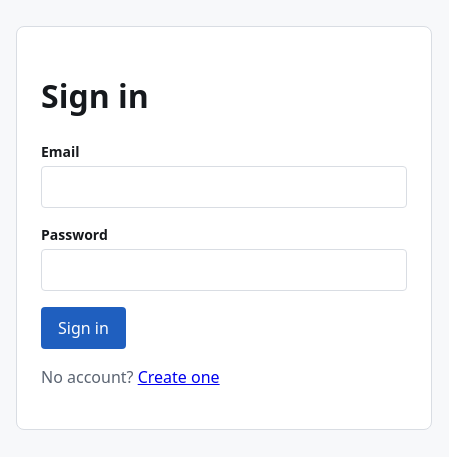
LoginPage › reports a rejected sign-in without hinting whether the account exists
This screenshot has width=449, height=457.
Step 1. Type "person@example.com" into the field labelled "Email" → (224, 187), box [41, 166, 407, 208]
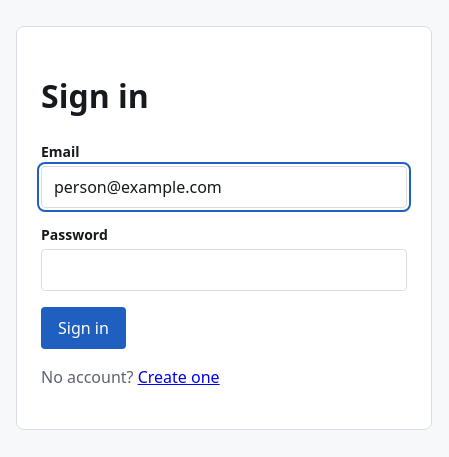
Step 2. Type "Str0ngPassword!" into the password field labelled "Password" → (224, 270), box [41, 249, 407, 291]
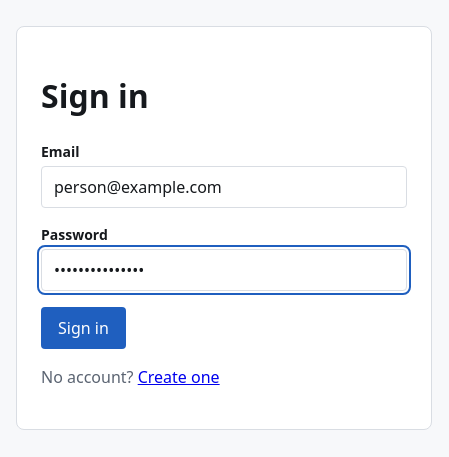
Step 3. Click the button "Sign in" → (83, 328), box [41, 307, 126, 349]
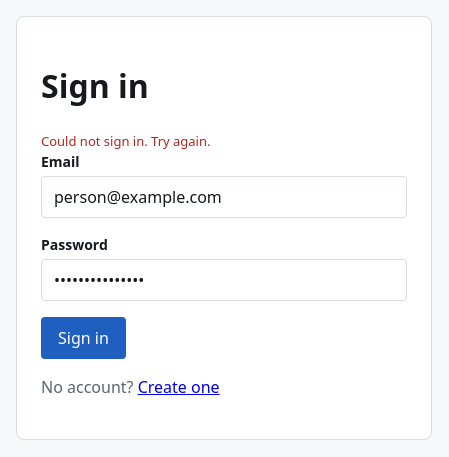
Now the message "Could not sign in. Try again." is shown, box [41, 132, 210, 150]
